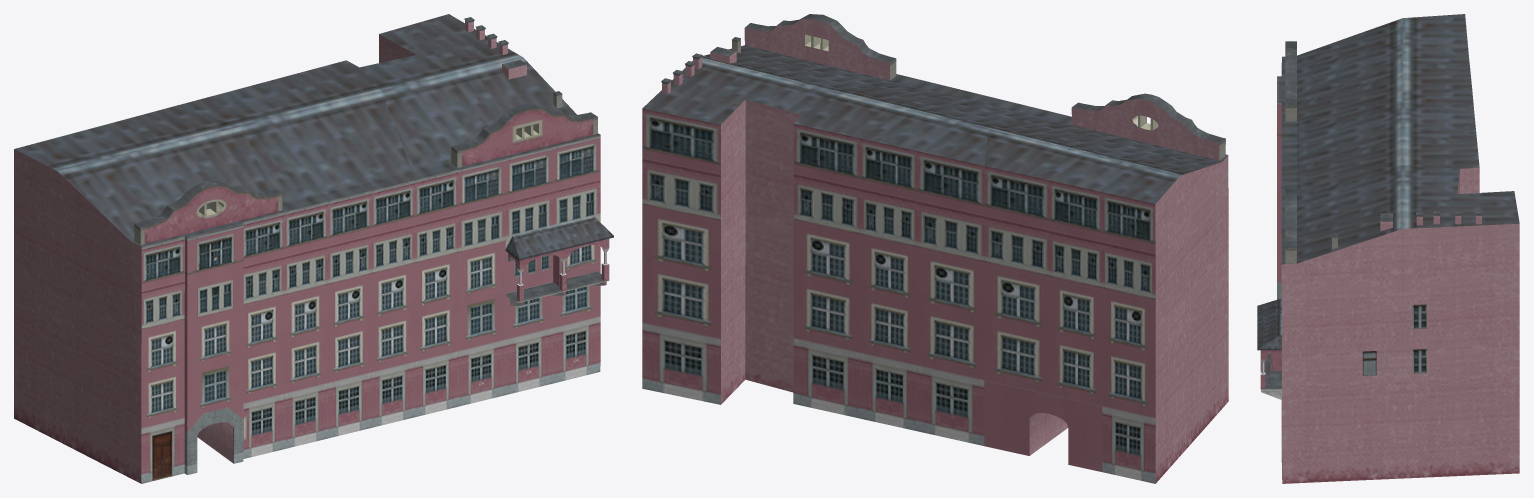
3 views of the same model, side by side, from view 1: azimuth 30°, elevation 25°; view 2: azimuth 150°, elevation 25°; view 3: azimuth 270°, elevation 25° (orthographic). The views are drawn at different scales.
Parts seen in each view (by area): view 1: House_4_lod_2; view 2: House_4_lod_2; view 3: House_4_lod_2.
Boxes of the visible parts, left/top/right/bottom form: House_4_lod_2: left=14, top=14, right=613, bottom=483; House_4_lod_2: left=642, top=14, right=1228, bottom=483; House_4_lod_2: left=1257, top=14, right=1519, bottom=483.
Size of the model in its own units: 160 by 88.16 by 80.63.
